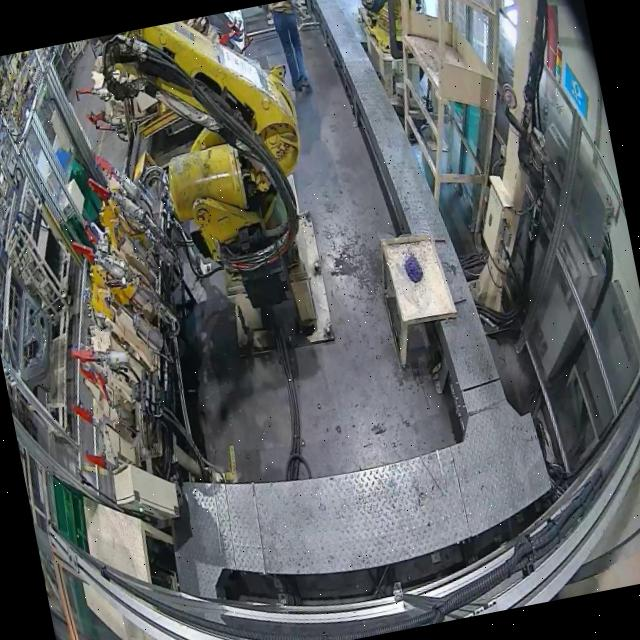Person: (267, 0, 314, 94)
